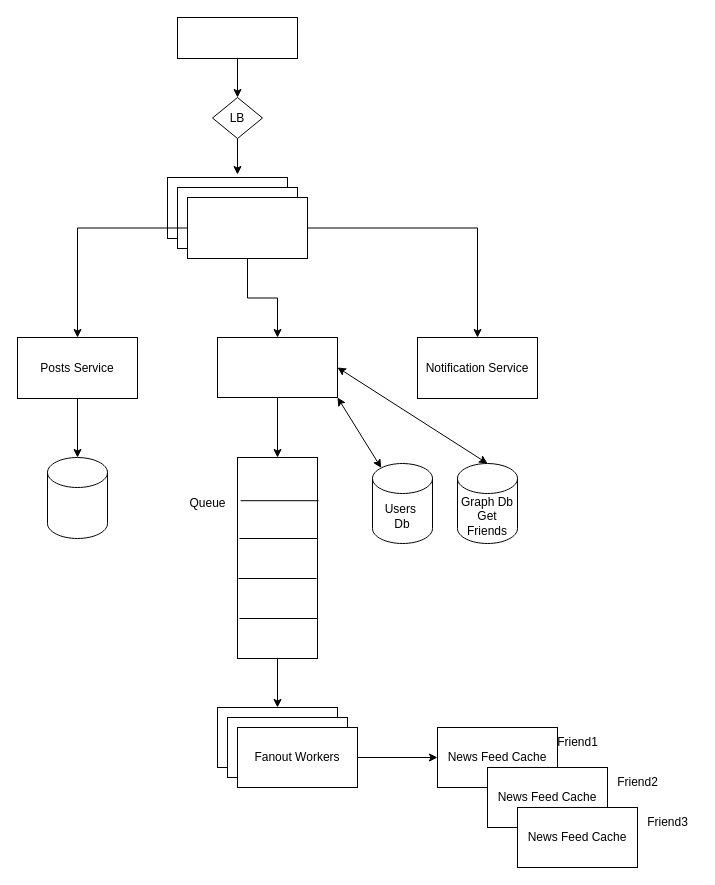
The diagram is 715 pixels wide and 885 high, and some of its shapes have lost their labels. Here are the shapes that lost their labels. From the top down, the centre of each, then its label:
At point 237,37: "App / Web".
At point 247,227: "Web Servers".
At point 277,367: "Fanout Service".
At point 77,497: "Posts DB".
